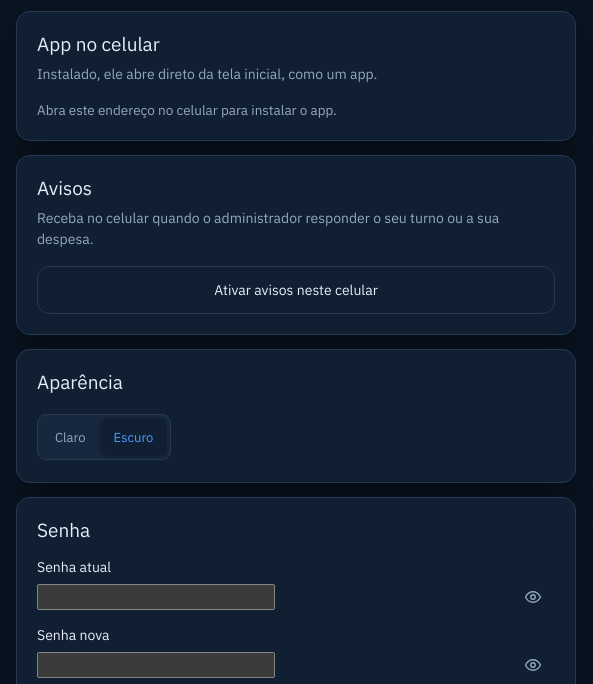
Scenario: senha nova repetida diferente não chega a ser enviada
The image size is (593, 684).
Type "antiga123" into the password field labelled "Senha atual" at (156, 597), box [37,584,275,610]
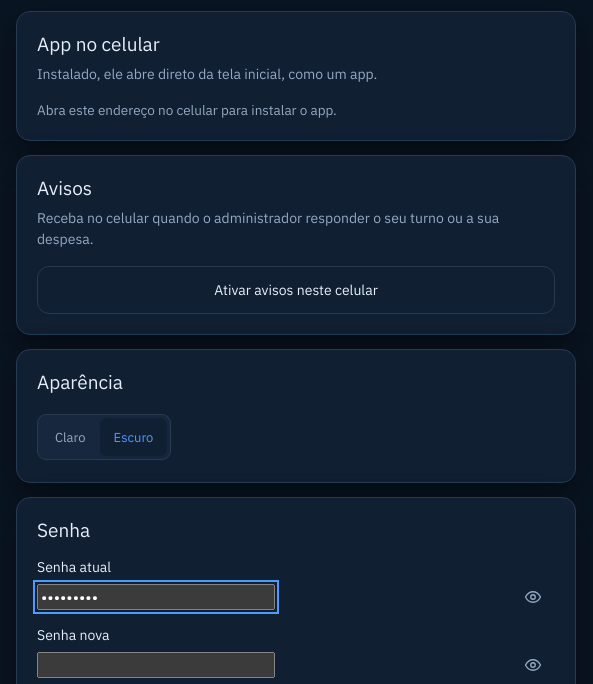
Type "nova12345" into the password field labelled "Senha nova" at (156, 665), box [37,652,275,678]
(page scrolled)
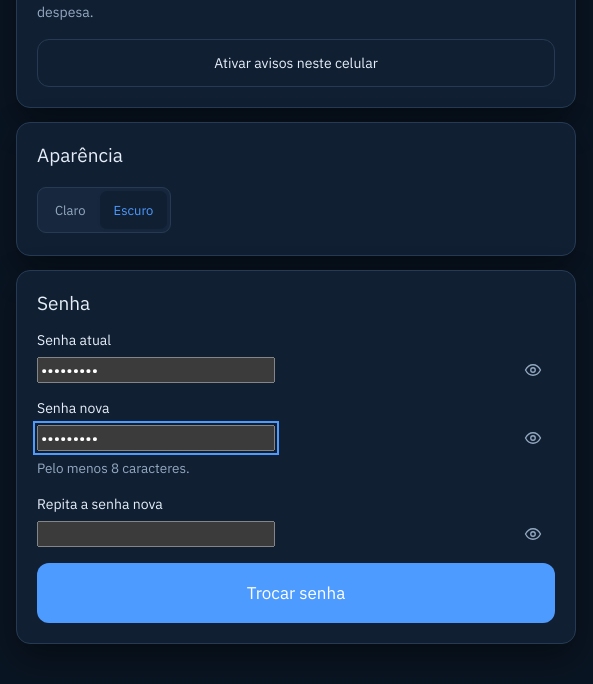
Type "outra1234" into the password field labelled "Repita a senha nova" at (156, 534), box [37,521,275,547]
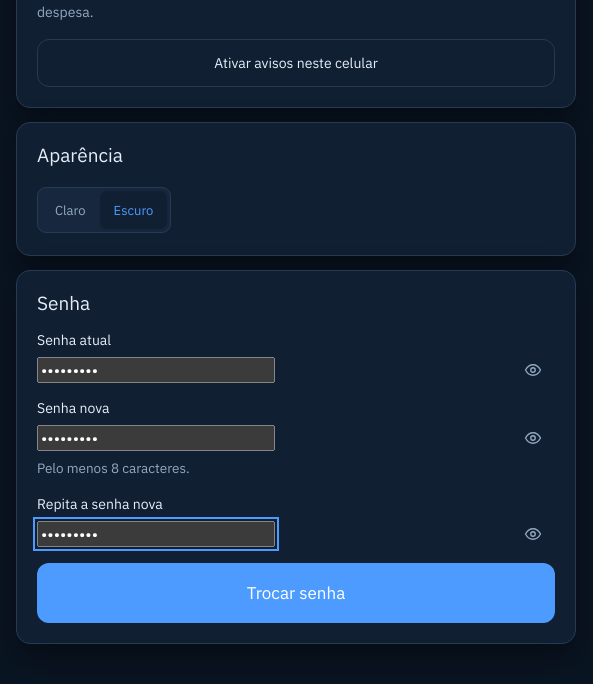
Click the button "Trocar senha" at (296, 593), box [37,563,555,623]
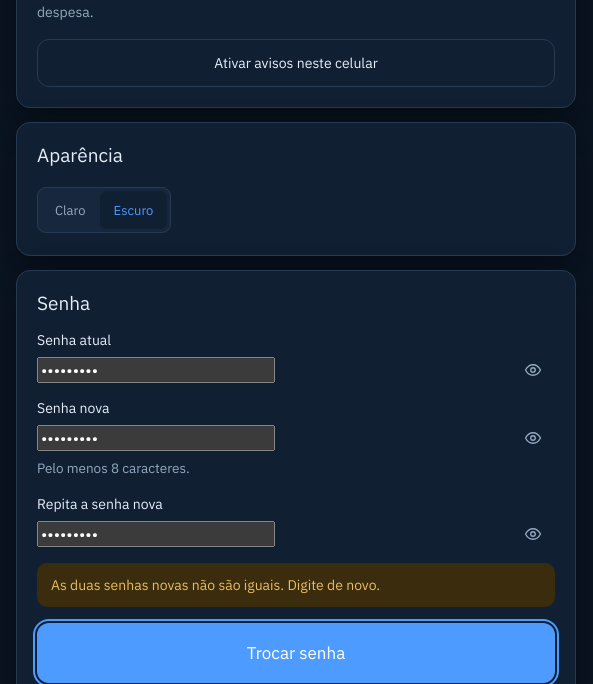
Expected: the message shows "As duas senhas novas não são iguais", [51,576,380,594]
